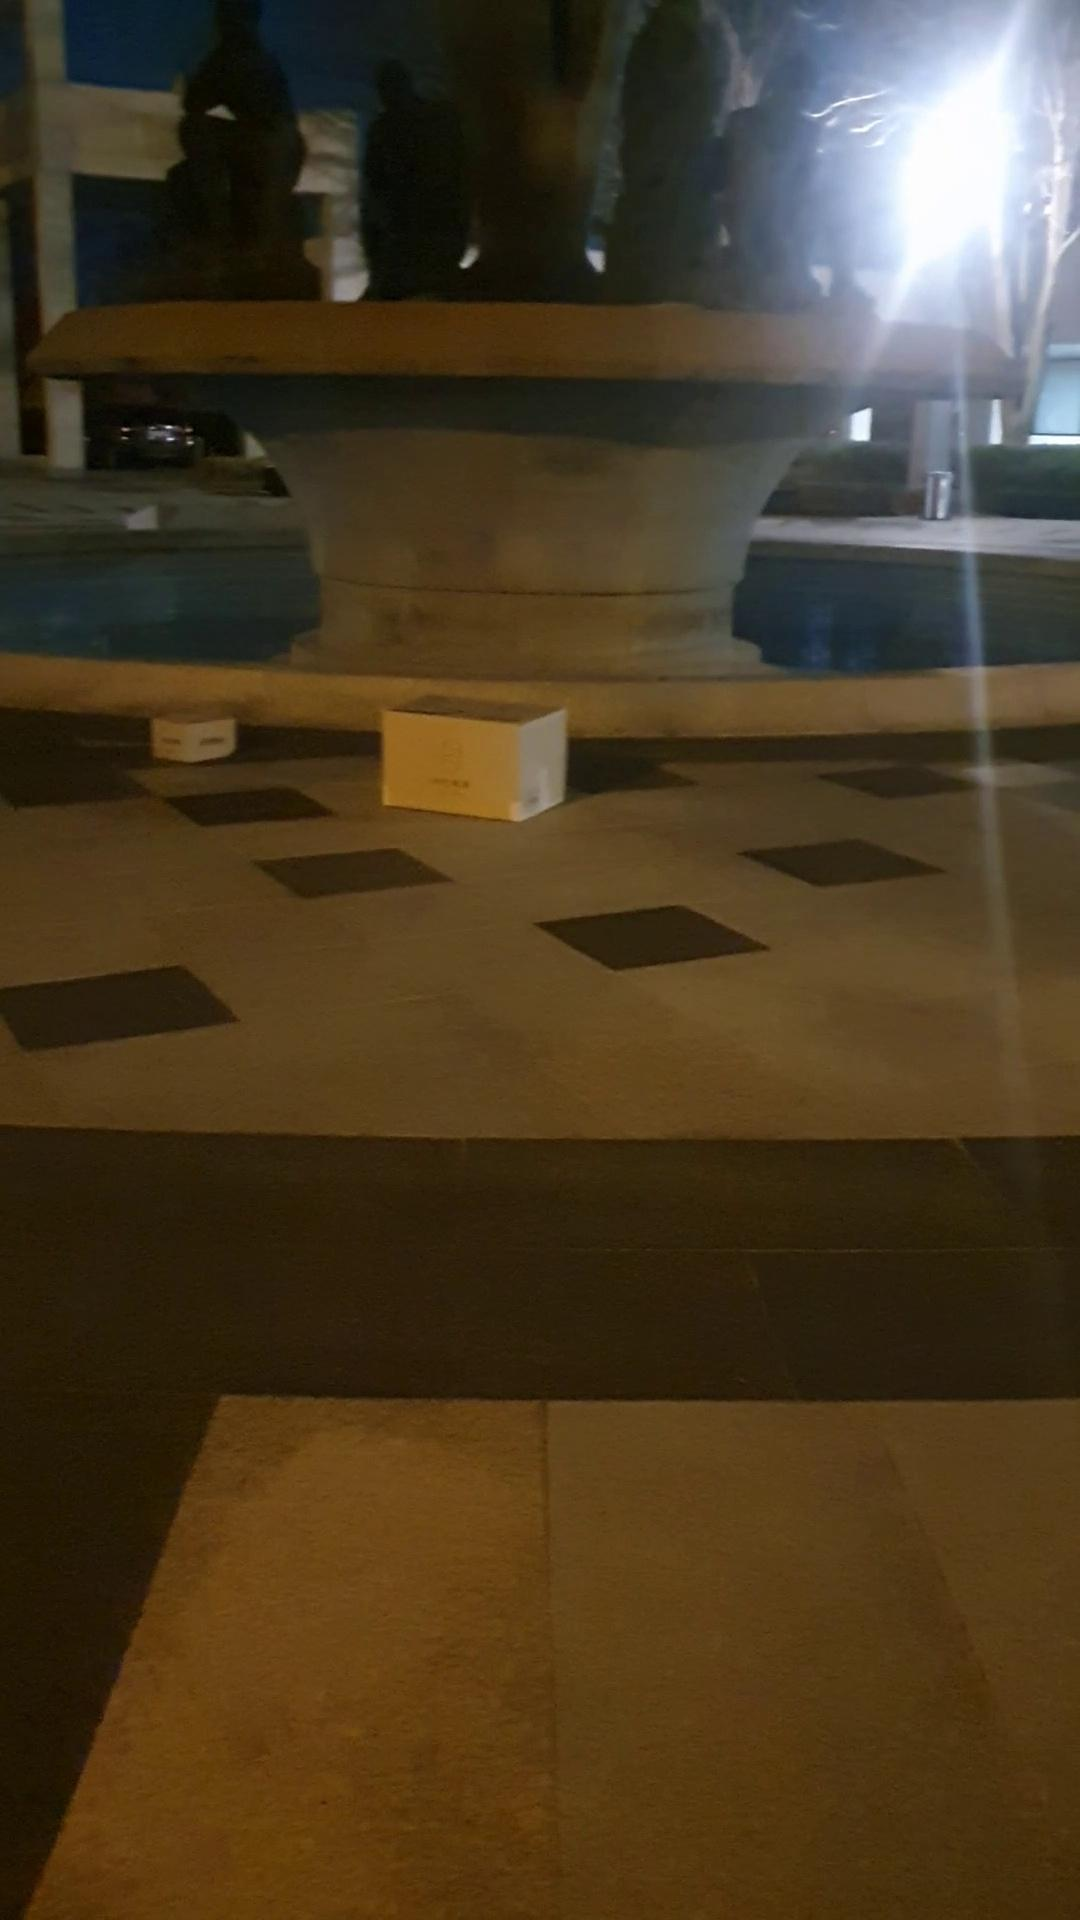Box: (381, 683, 575, 851), (133, 683, 260, 793)
